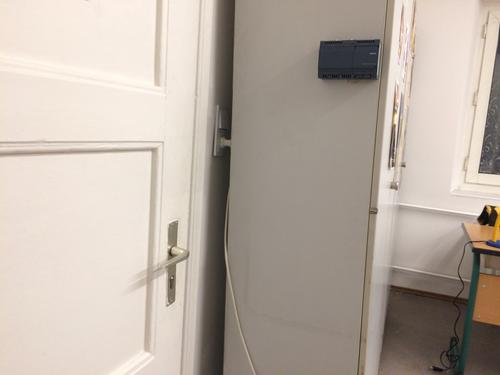iot2000: (316, 38, 382, 81)
